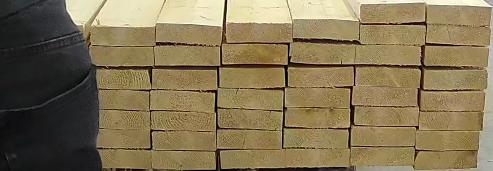Wood-Plank: (219, 66, 286, 88), (360, 1, 426, 23), (156, 24, 221, 46), (424, 68, 488, 90), (288, 66, 355, 87), (293, 19, 360, 40), (427, 4, 493, 25), (152, 68, 217, 89), (222, 44, 287, 65), (150, 91, 214, 112), (421, 90, 485, 111), (357, 66, 420, 87), (154, 46, 220, 66), (361, 24, 427, 44), (424, 46, 490, 66), (218, 89, 284, 109), (225, 23, 294, 42), (89, 69, 151, 90), (284, 129, 349, 149), (285, 87, 350, 107), (353, 86, 418, 106), (218, 109, 282, 129), (89, 26, 156, 45), (428, 25, 491, 45), (357, 45, 422, 64), (355, 107, 420, 126), (352, 127, 417, 146), (89, 47, 154, 66), (291, 44, 355, 63), (352, 147, 416, 166), (416, 151, 479, 170), (217, 131, 282, 149), (220, 151, 285, 169), (286, 150, 351, 168), (286, 109, 351, 127), (152, 151, 216, 169), (151, 112, 215, 130), (417, 132, 481, 150), (152, 132, 215, 150), (421, 112, 484, 130), (92, 129, 151, 148), (89, 91, 150, 109), (93, 151, 152, 168), (90, 112, 151, 128)
